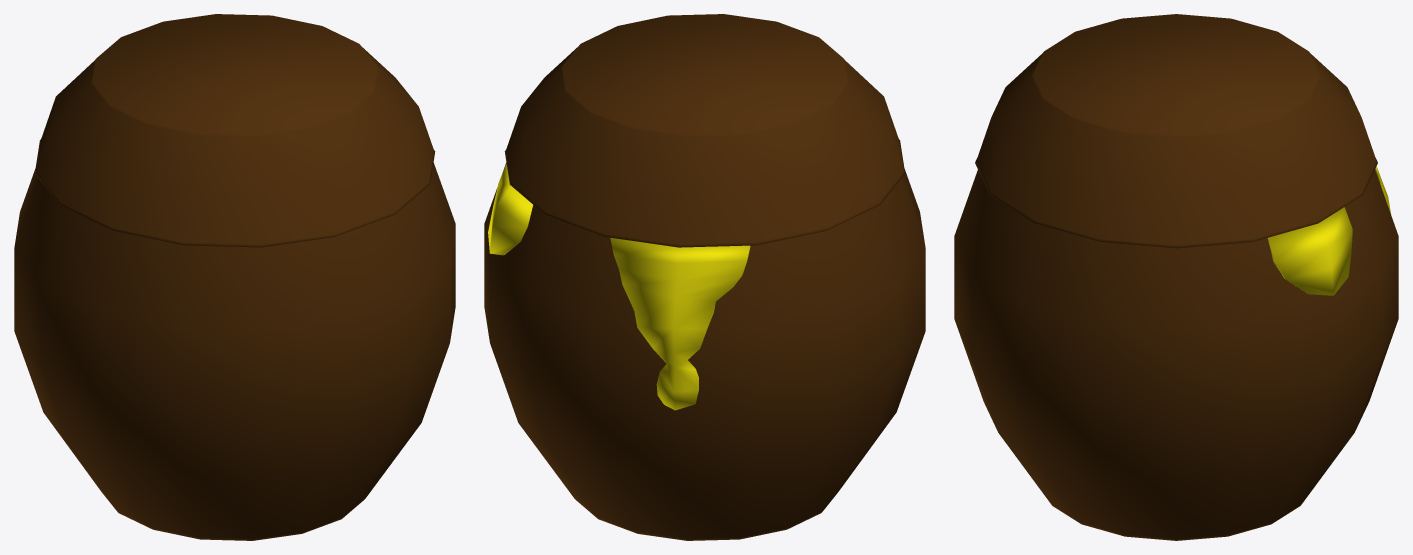
The model's file is Cargo_Honeypot.fbx.
The picture shows the model from 3 angles, left to right: view 1: azimuth 30°, elevation 25°; view 2: azimuth 150°, elevation 25°; view 3: azimuth 270°, elevation 25°; orthographic projection.
Parts seen in each view (by area): view 1: Pot; view 2: Pot; view 3: Pot.
Part boxes in pixels (<box>): Pot: <box>14,14,455,540</box>; Pot: <box>484,14,925,540</box>; Pot: <box>954,14,1398,540</box>.
Bounding box in the file's own units: 175 × 178 × 175.
